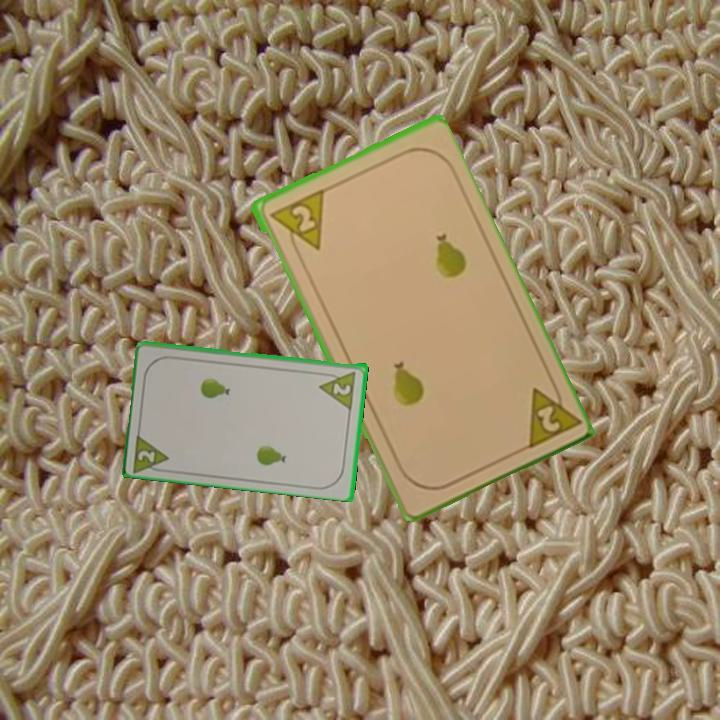2p: (520, 374, 581, 453), (264, 186, 327, 260), (129, 429, 172, 475), (316, 367, 359, 411)
